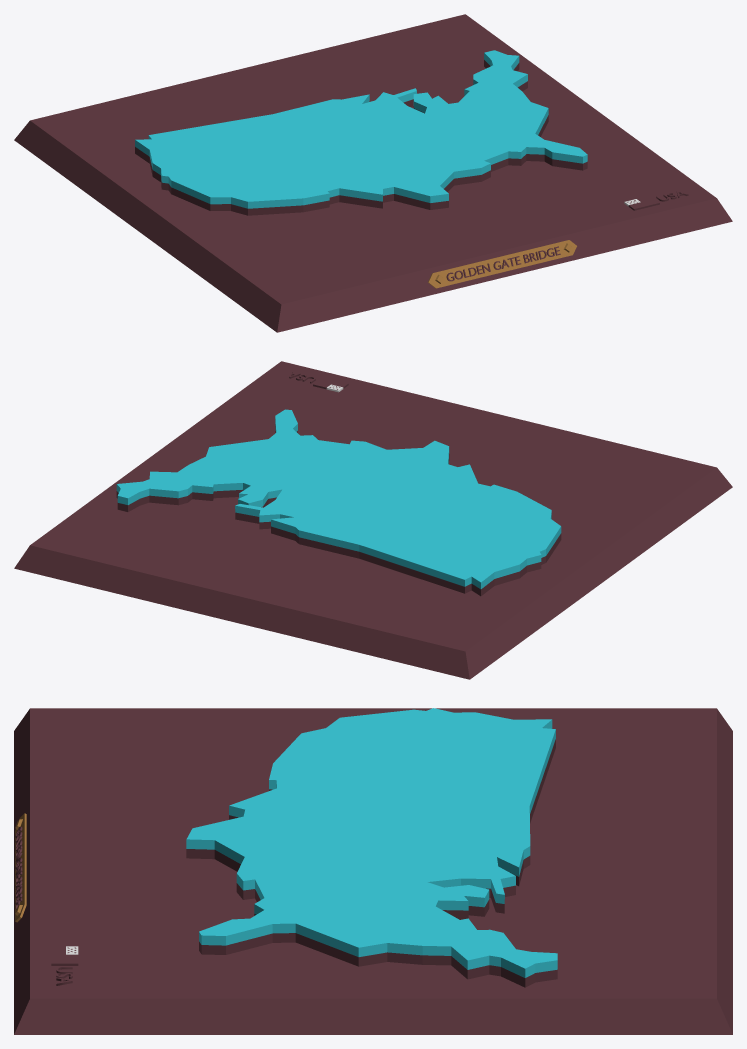
File: SM_Island_Bridge_GoldenGate_Landmark.fbx
3 renders of one model, top to bottom at view 1: azimuth 30°, elevation 25°; view 2: azimuth 150°, elevation 25°; view 3: azimuth 270°, elevation 25°, orthographic. The views are drawn at different scales.
Visible parts, largest first — view 1: Island_Bridge_GoldenGate_Landmark; view 2: Island_Bridge_GoldenGate_Landmark; view 3: Island_Bridge_GoldenGate_Landmark.
Boxes of the visible parts, left/top/right/bottom form: Island_Bridge_GoldenGate_Landmark: left=14, top=14, right=732, bottom=332; Island_Bridge_GoldenGate_Landmark: left=14, top=361, right=732, bottom=679; Island_Bridge_GoldenGate_Landmark: left=14, top=708, right=732, bottom=1034.
Size of the model in its own units: 68.5 by 5.09 by 68.5.
